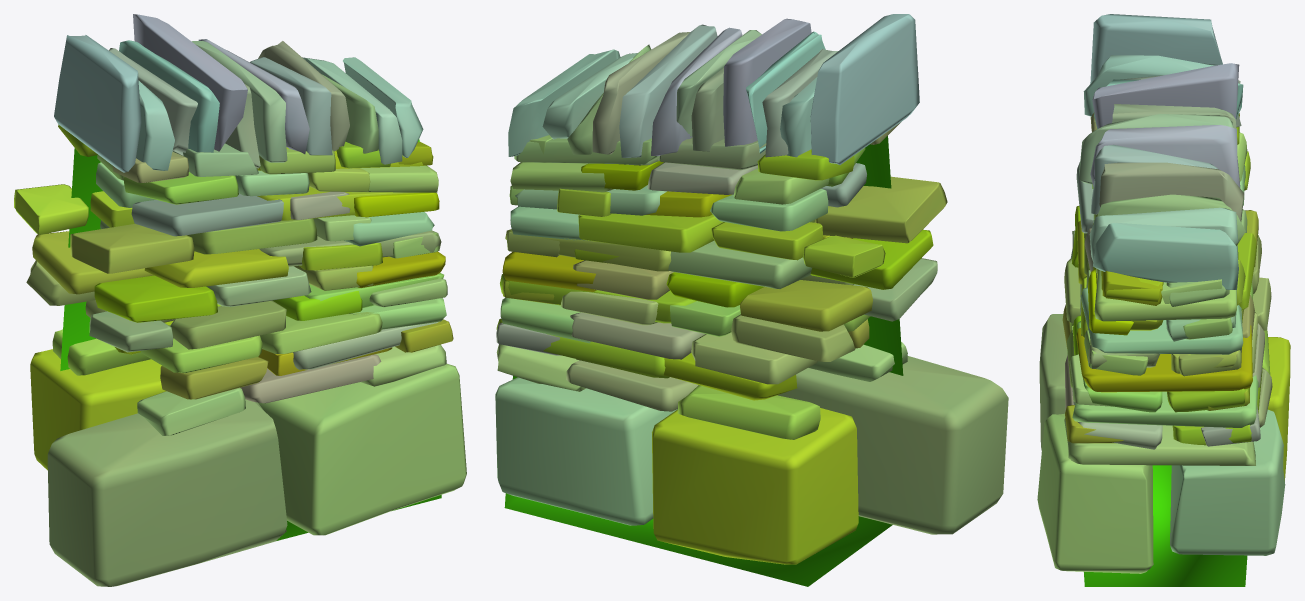
Rendered from SM_Prop_wall_end_4.glb.
3 renders of one model, left to right at view 1: azimuth 30°, elevation 25°; view 2: azimuth 150°, elevation 25°; view 3: azimuth 270°, elevation 25°, orthographic. The views are drawn at different scales.
Parts seen in each view (by area): view 1: SM_Prop_wall_end_4; view 2: SM_Prop_wall_end_4; view 3: SM_Prop_wall_end_4.
Part boxes in pixels (x1,y1,x2,y2): SM_Prop_wall_end_4: (14,14,466,586); SM_Prop_wall_end_4: (495,14,1008,586); SM_Prop_wall_end_4: (1037,14,1290,586).
Bounding box in the file's own units: 1.25 × 1.52 × 0.7967.
